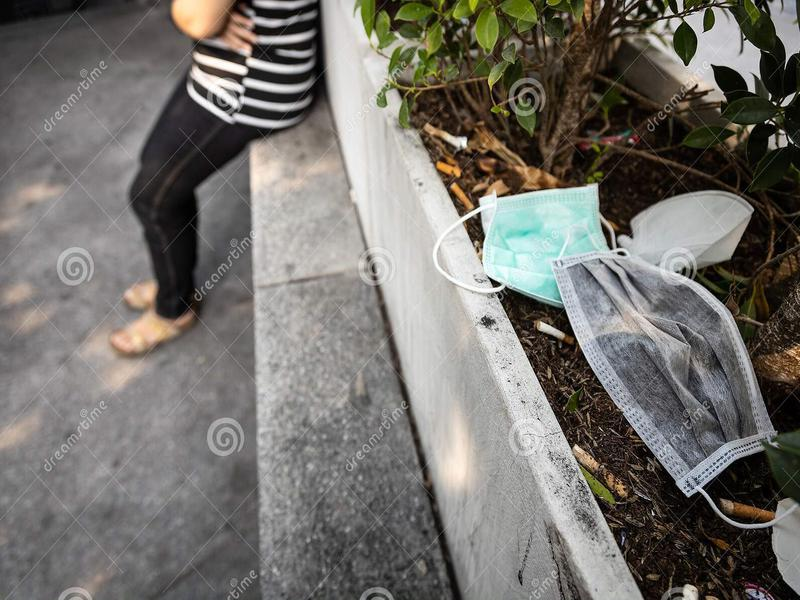mask: (545, 242, 800, 535), (412, 162, 613, 307), (617, 169, 757, 273)
